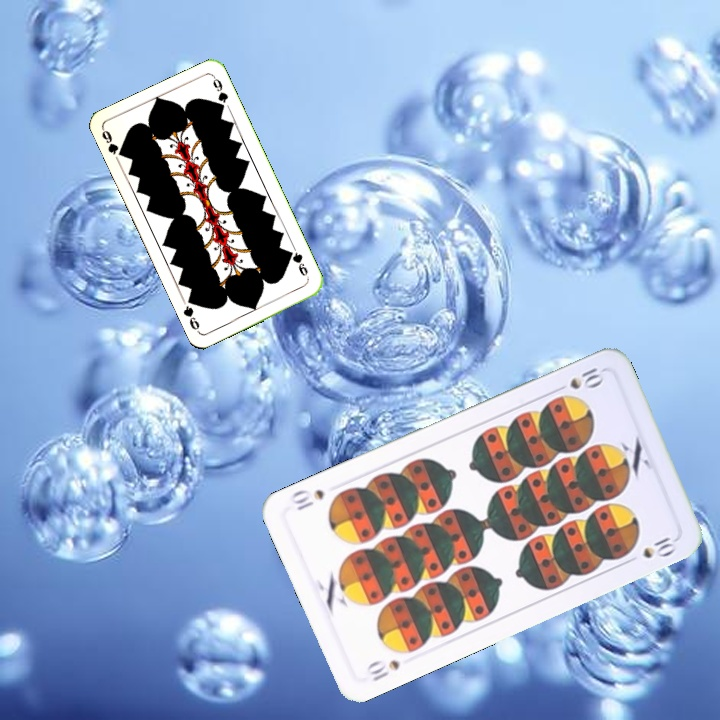G9: (98, 125, 128, 160), (284, 246, 312, 282)
S10: (550, 363, 606, 395), (362, 655, 403, 684)
